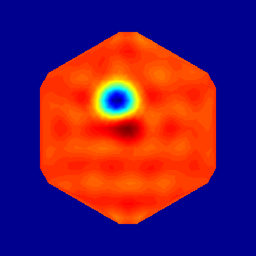ship: (109, 88, 125, 110)
wave: (112, 104, 130, 136)
